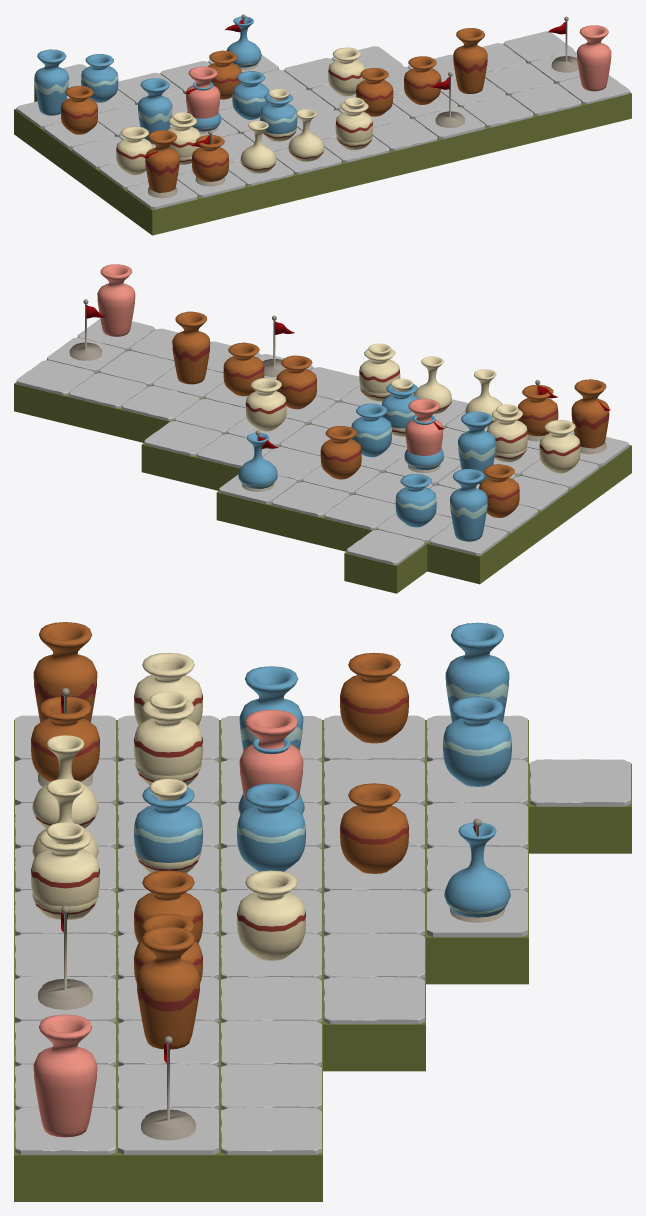
Rendered from capivaraMaps.fbx.
3 views of the same model, one above another, from view 1: azimuth 30°, elevation 25°; view 2: azimuth 150°, elevation 25°; view 3: azimuth 270°, elevation 25° (orthographic). The views are drawn at different scales.
Visible parts, largest first — view 1: map_2, map_5, map_7, map_6, map_3, map_4, map_1; view 2: map_2, map_5, map_7, map_4, map_6, map_1, map_3; view 3: map_5, map_2, map_7, map_1, map_4, map_6, map_3.
Boxes of the visible parts, x1,y1,x2,y2 form: map_2: [14, 50, 392, 235]; map_5: [72, 16, 631, 209]; map_7: [42, 46, 487, 233]; map_6: [16, 14, 389, 207]; map_3: [69, 88, 391, 235]; map_4: [117, 16, 302, 209]; map_1: [34, 64, 248, 223]; map_2: [216, 386, 631, 584]; map_5: [14, 264, 623, 509]; map_7: [141, 315, 622, 527]; map_4: [219, 379, 630, 542]; map_6: [219, 343, 630, 556]; map_1: [344, 380, 574, 593]; map_3: [300, 378, 631, 532]; map_5: [14, 666, 322, 1201]; map_2: [14, 652, 528, 984]; map_7: [14, 700, 425, 1071]; map_1: [14, 688, 631, 853]; map_4: [14, 622, 528, 937]; map_6: [14, 622, 528, 937]; map_3: [15, 623, 321, 935].
Size of the model in its own units: 1000 by 168 by 600.
